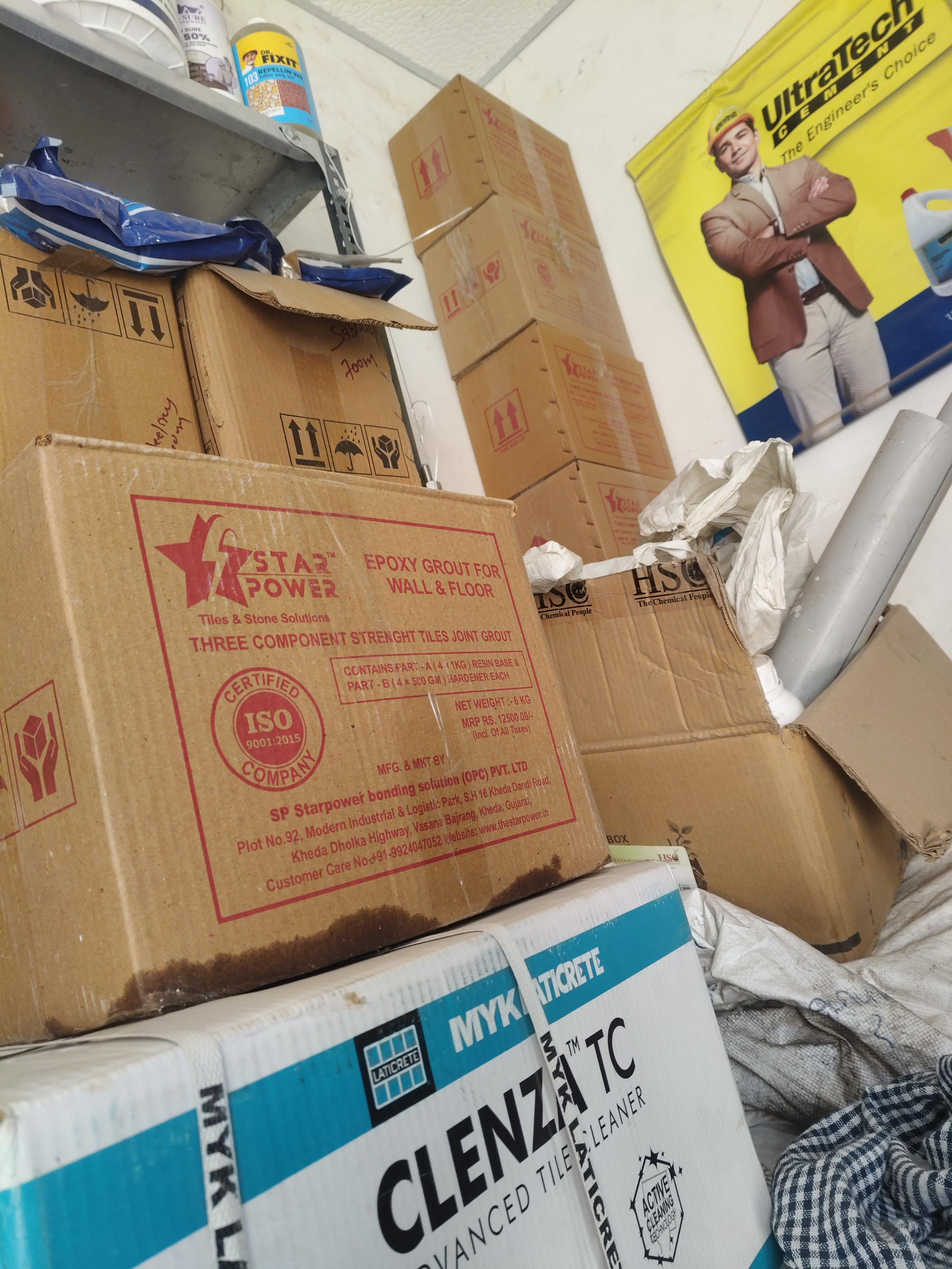Dr. Fixit_103 REPELLIN WR: (229, 16, 326, 142)
poster: (621, 3, 952, 467)
